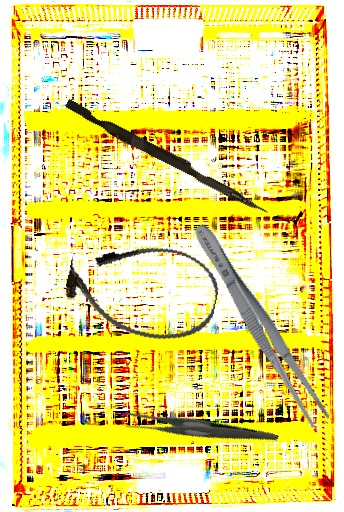Cannula: (58, 228, 226, 351)
Dressing Forceps: (186, 218, 334, 431), (120, 373, 279, 487)
Pusher: (62, 98, 273, 217)
